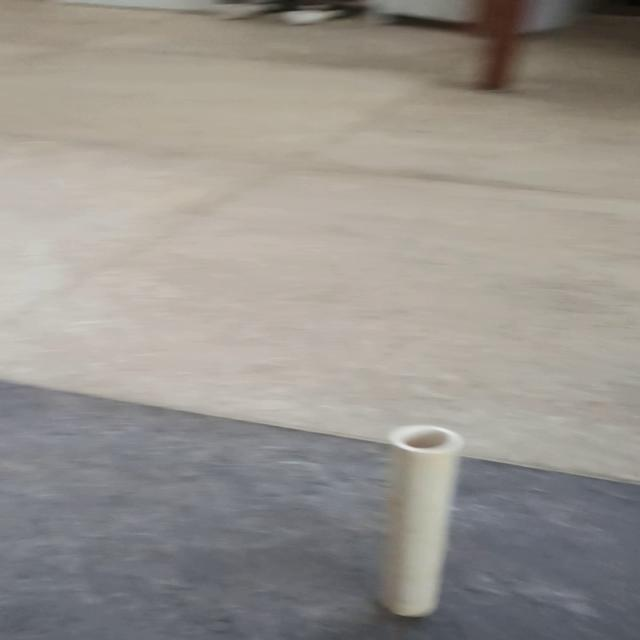Cube: (374, 423, 465, 618)
